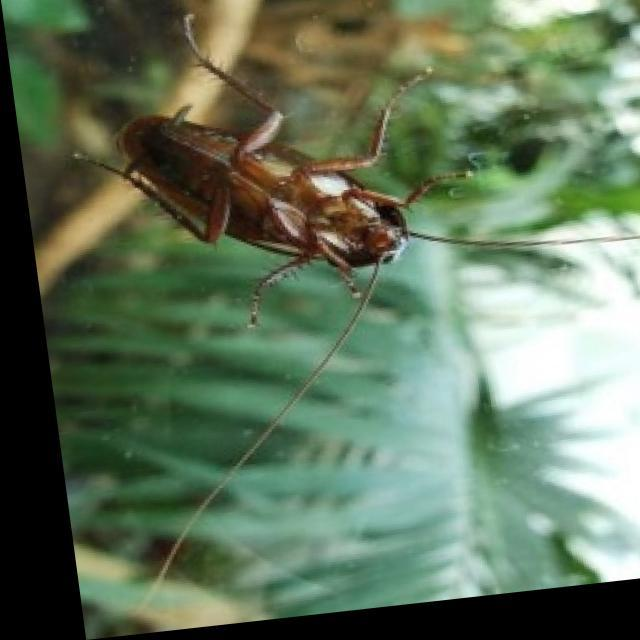cockroach: (96, 70, 480, 324)
